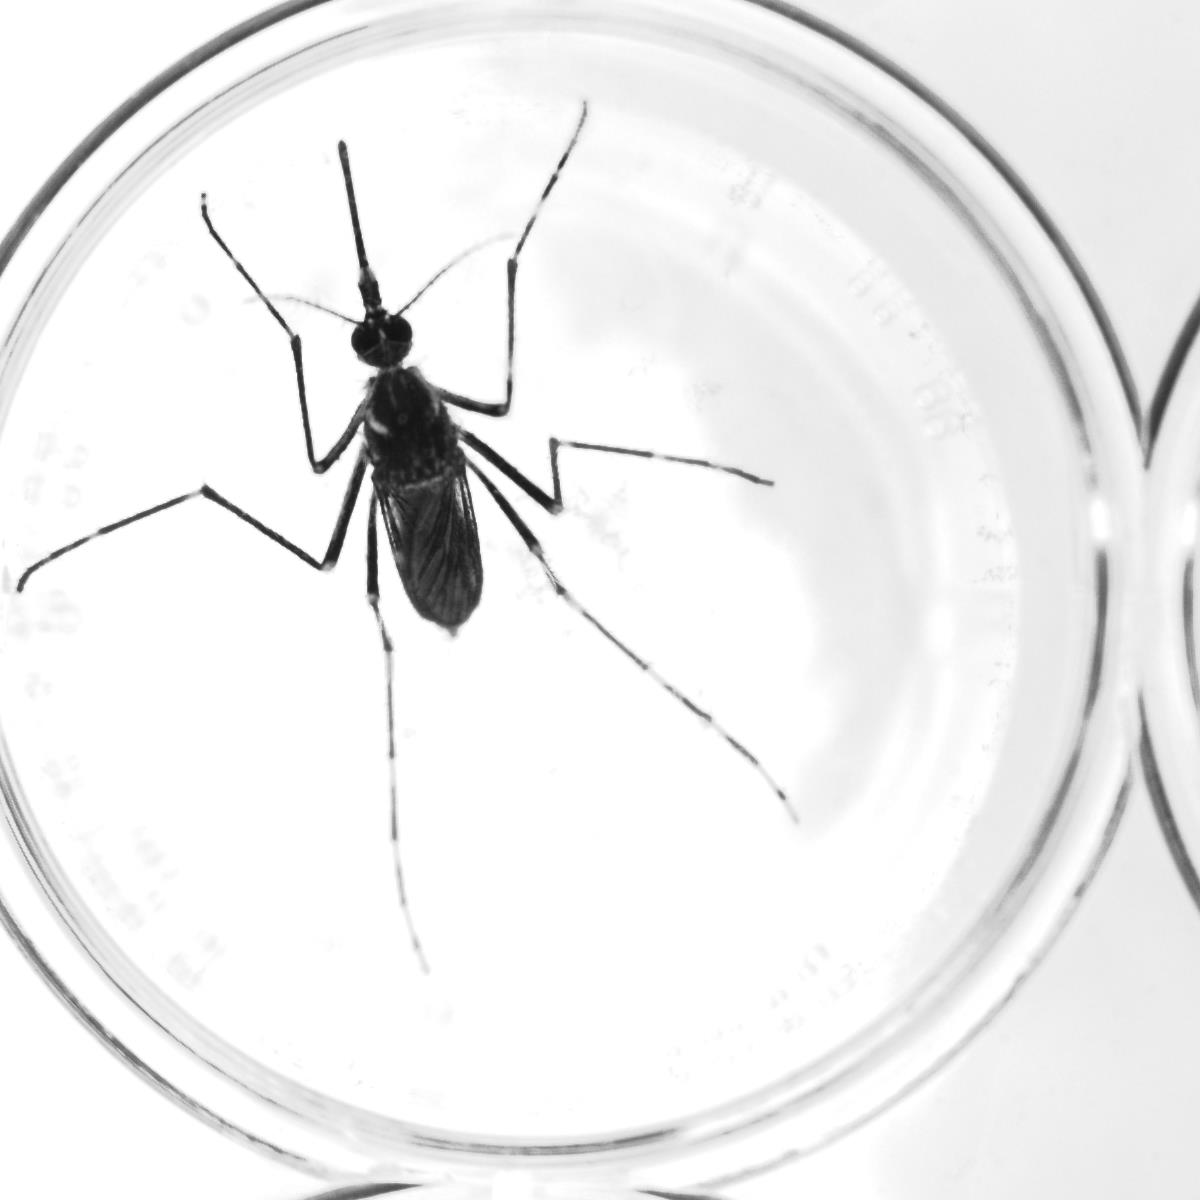f-a: (270, 137, 479, 379)
f-b: (211, 121, 753, 816)
f-c: (418, 603, 490, 646)
